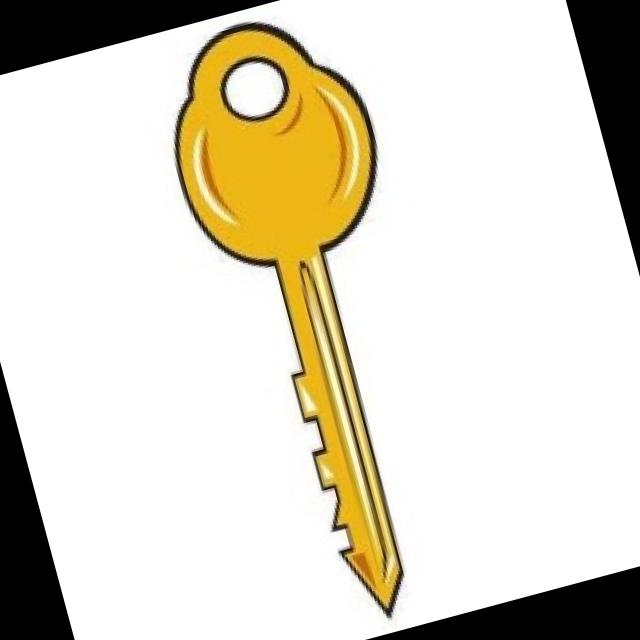anahtar: (135, 0, 503, 640)
